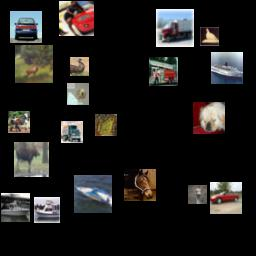automobile: (59, 1, 94, 36), (210, 182, 242, 214), (10, 11, 42, 43)
bird: (188, 185, 207, 204), (70, 57, 89, 76), (200, 27, 219, 46)
cat: (67, 83, 89, 105)
deer: (15, 45, 53, 83), (14, 142, 49, 177)
dog: (193, 102, 225, 134)
frog: (95, 114, 117, 136)
ship: (74, 175, 112, 213), (211, 52, 243, 84), (1, 193, 30, 222), (34, 197, 60, 223)
truck: (156, 9, 194, 47), (149, 57, 178, 86), (61, 121, 83, 143)
